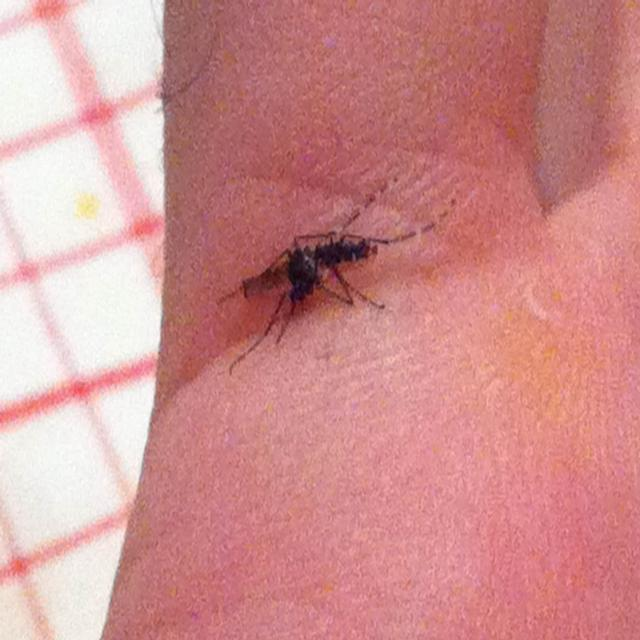albopictus: (223, 177, 431, 372)
